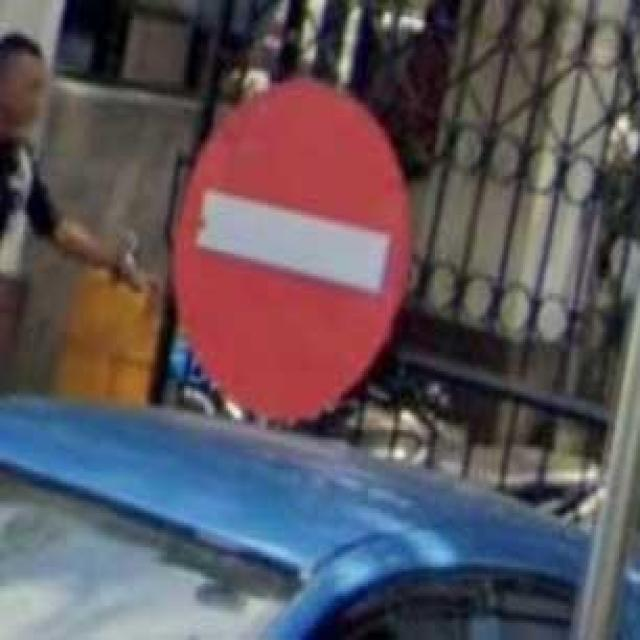traffic sign: (174, 76, 408, 418)
